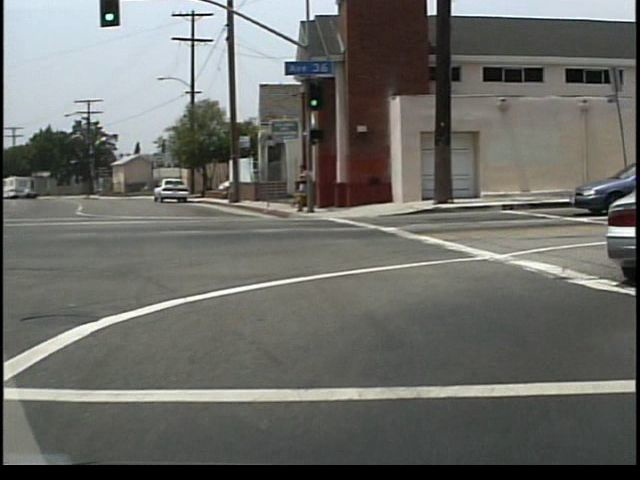person: (300, 162, 318, 213)
